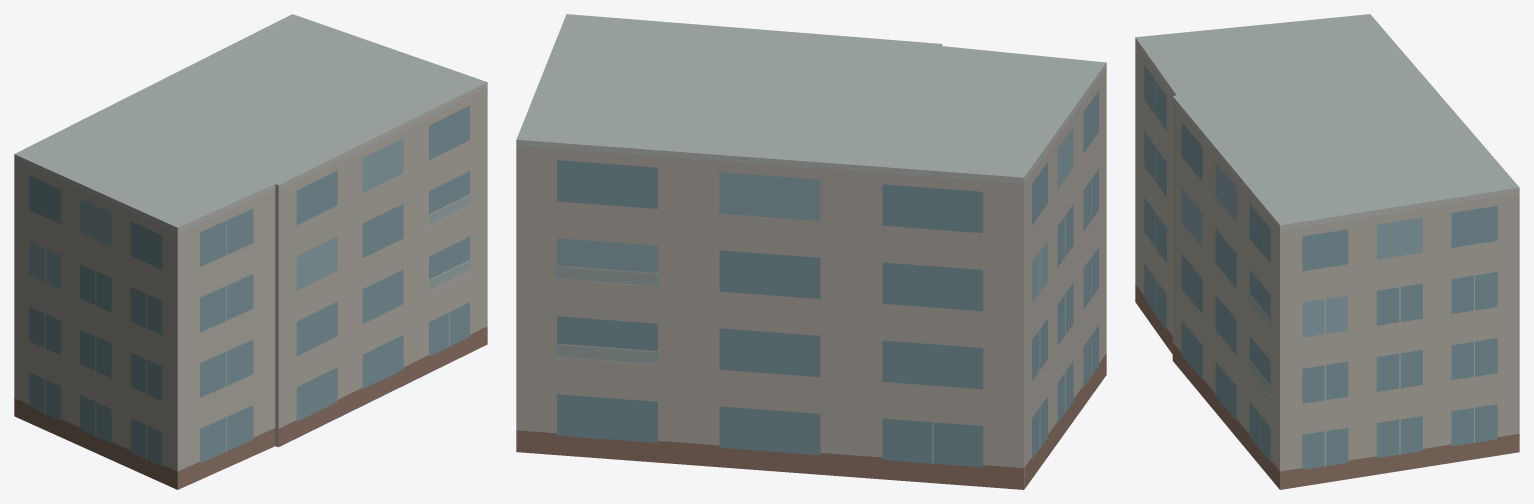
The model's file is survey-upis-32644734.glb.
3 views of the same model, side by side, from view 1: azimuth 30°, elevation 25°; view 2: azimuth 150°, elevation 25°; view 3: azimuth 270°, elevation 25° (orthographic). The views are drawn at different scales.
Parts seen in each view (by area): view 1: survey-upis-32644734.tmp; view 2: survey-upis-32644734.tmp; view 3: survey-upis-32644734.tmp.
Part boxes in pixels (bbox=[...]): survey-upis-32644734.tmp: bbox=[14, 14, 487, 489]; survey-upis-32644734.tmp: bbox=[516, 14, 1106, 489]; survey-upis-32644734.tmp: bbox=[1135, 14, 1519, 489].
Bounding box in the file's own units: 20.9 × 12.2 × 16.07.
